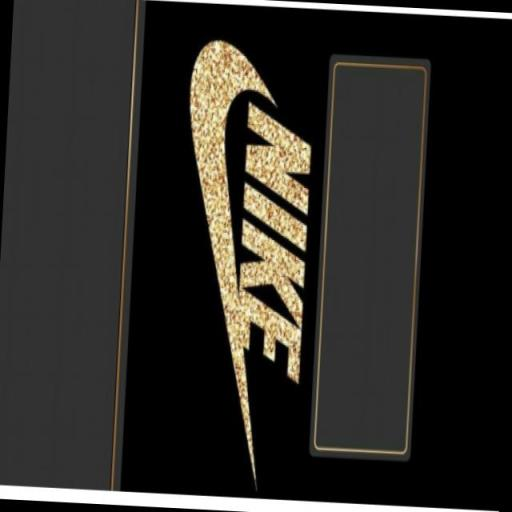Nike: (167, 32, 285, 489), (229, 98, 316, 386)
